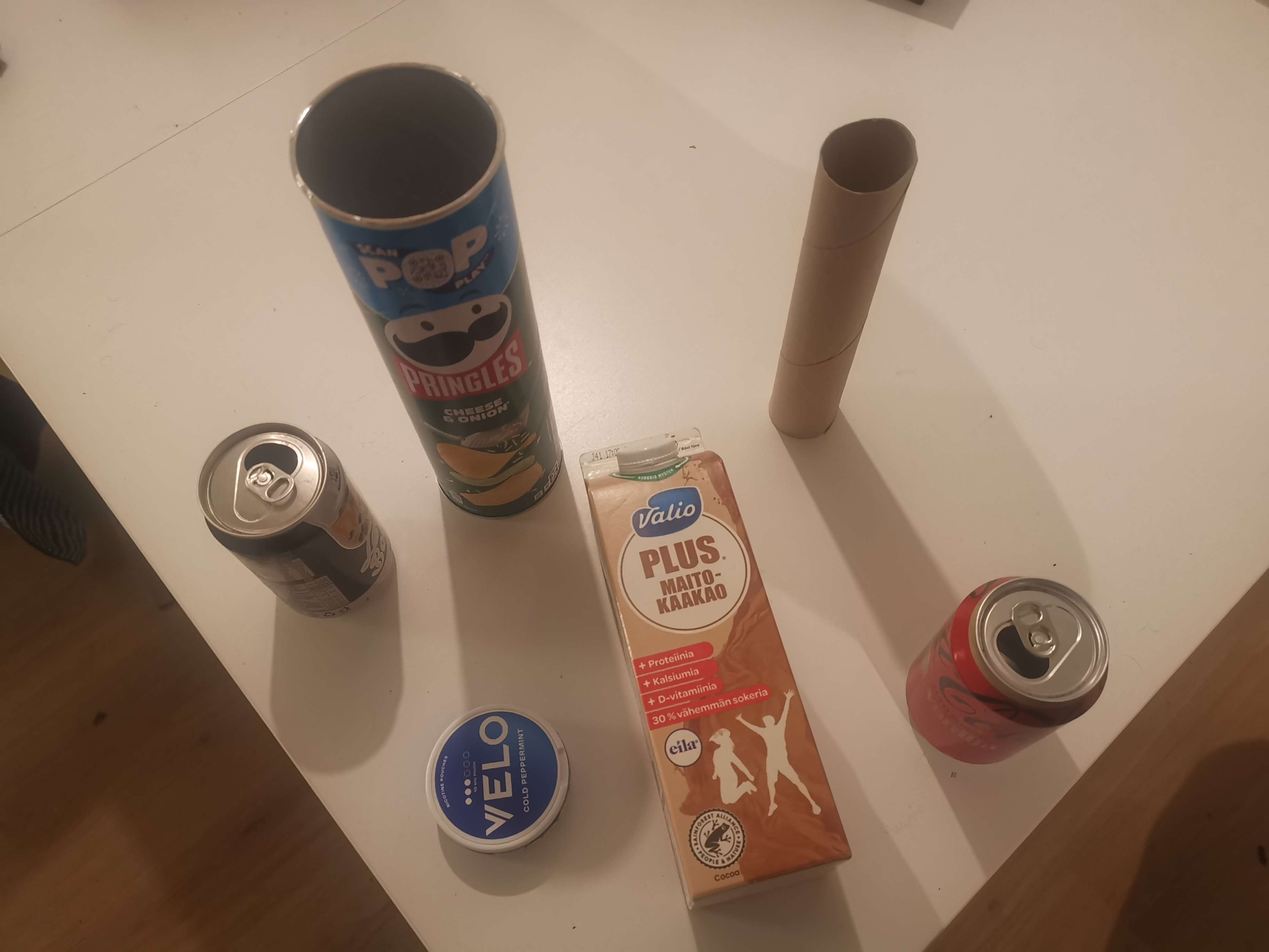Dryckeskartong: (578, 428, 853, 911), (906, 576, 1110, 766)
Pantburk: (198, 423, 392, 620)
